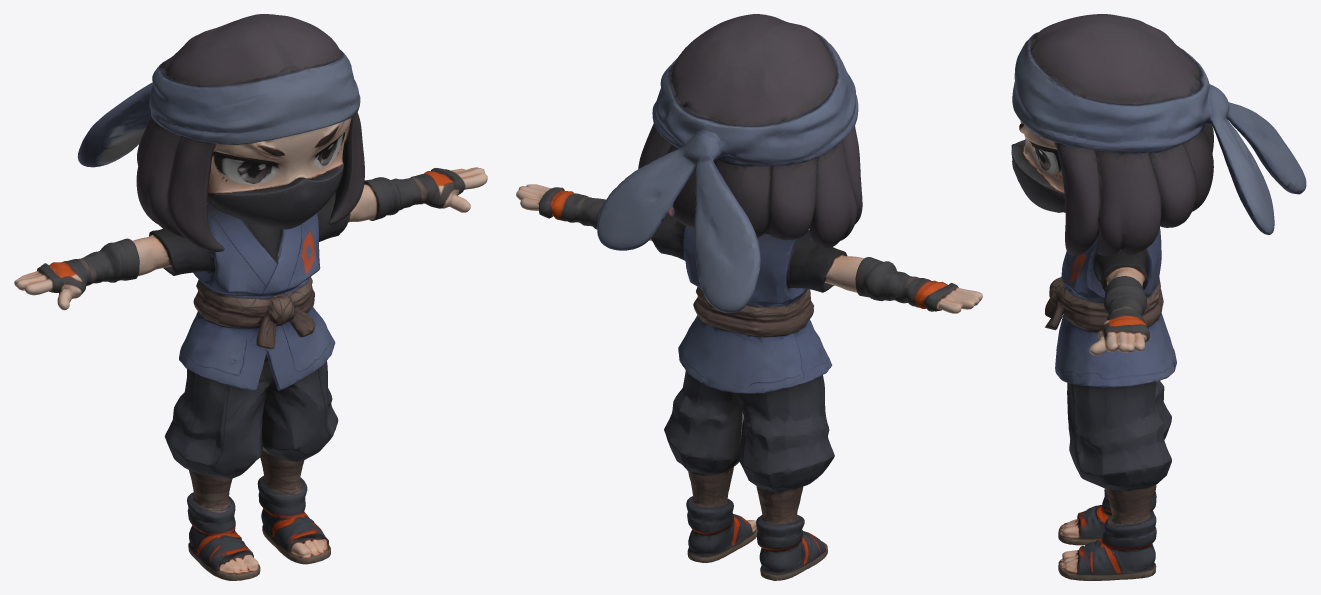
Rendered from ninja.glb.
3 views of the same model, side by side, from view 1: azimuth 30°, elevation 25°; view 2: azimuth 150°, elevation 25°; view 3: azimuth 270°, elevation 25° (orthographic).
Visible parts, largest first — view 1: tripo_node_011bb799; view 2: tripo_node_011bb799; view 3: tripo_node_011bb799.
Boxes of the visible parts, x1,y1,x2,y2 form: tripo_node_011bb799: [14, 14, 487, 580]; tripo_node_011bb799: [516, 14, 982, 580]; tripo_node_011bb799: [1011, 14, 1306, 580].
Bounding box in the file's own units: 0.8549 × 0.9306 × 0.4687.
Materials: 1 (1 with a texture image).
